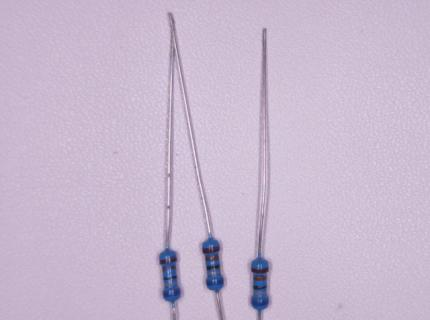Black band: (206, 264, 220, 270), (163, 275, 177, 281), (253, 285, 267, 289)
Blue band: (206, 278, 224, 286), (163, 289, 181, 297), (251, 299, 269, 306)
Brown band: (159, 257, 177, 264), (203, 246, 220, 253), (251, 267, 269, 273)
Grey band: (207, 270, 221, 276), (164, 282, 178, 287), (253, 291, 267, 295)
Orange band: (205, 254, 219, 262), (162, 265, 176, 271), (253, 276, 267, 281)
